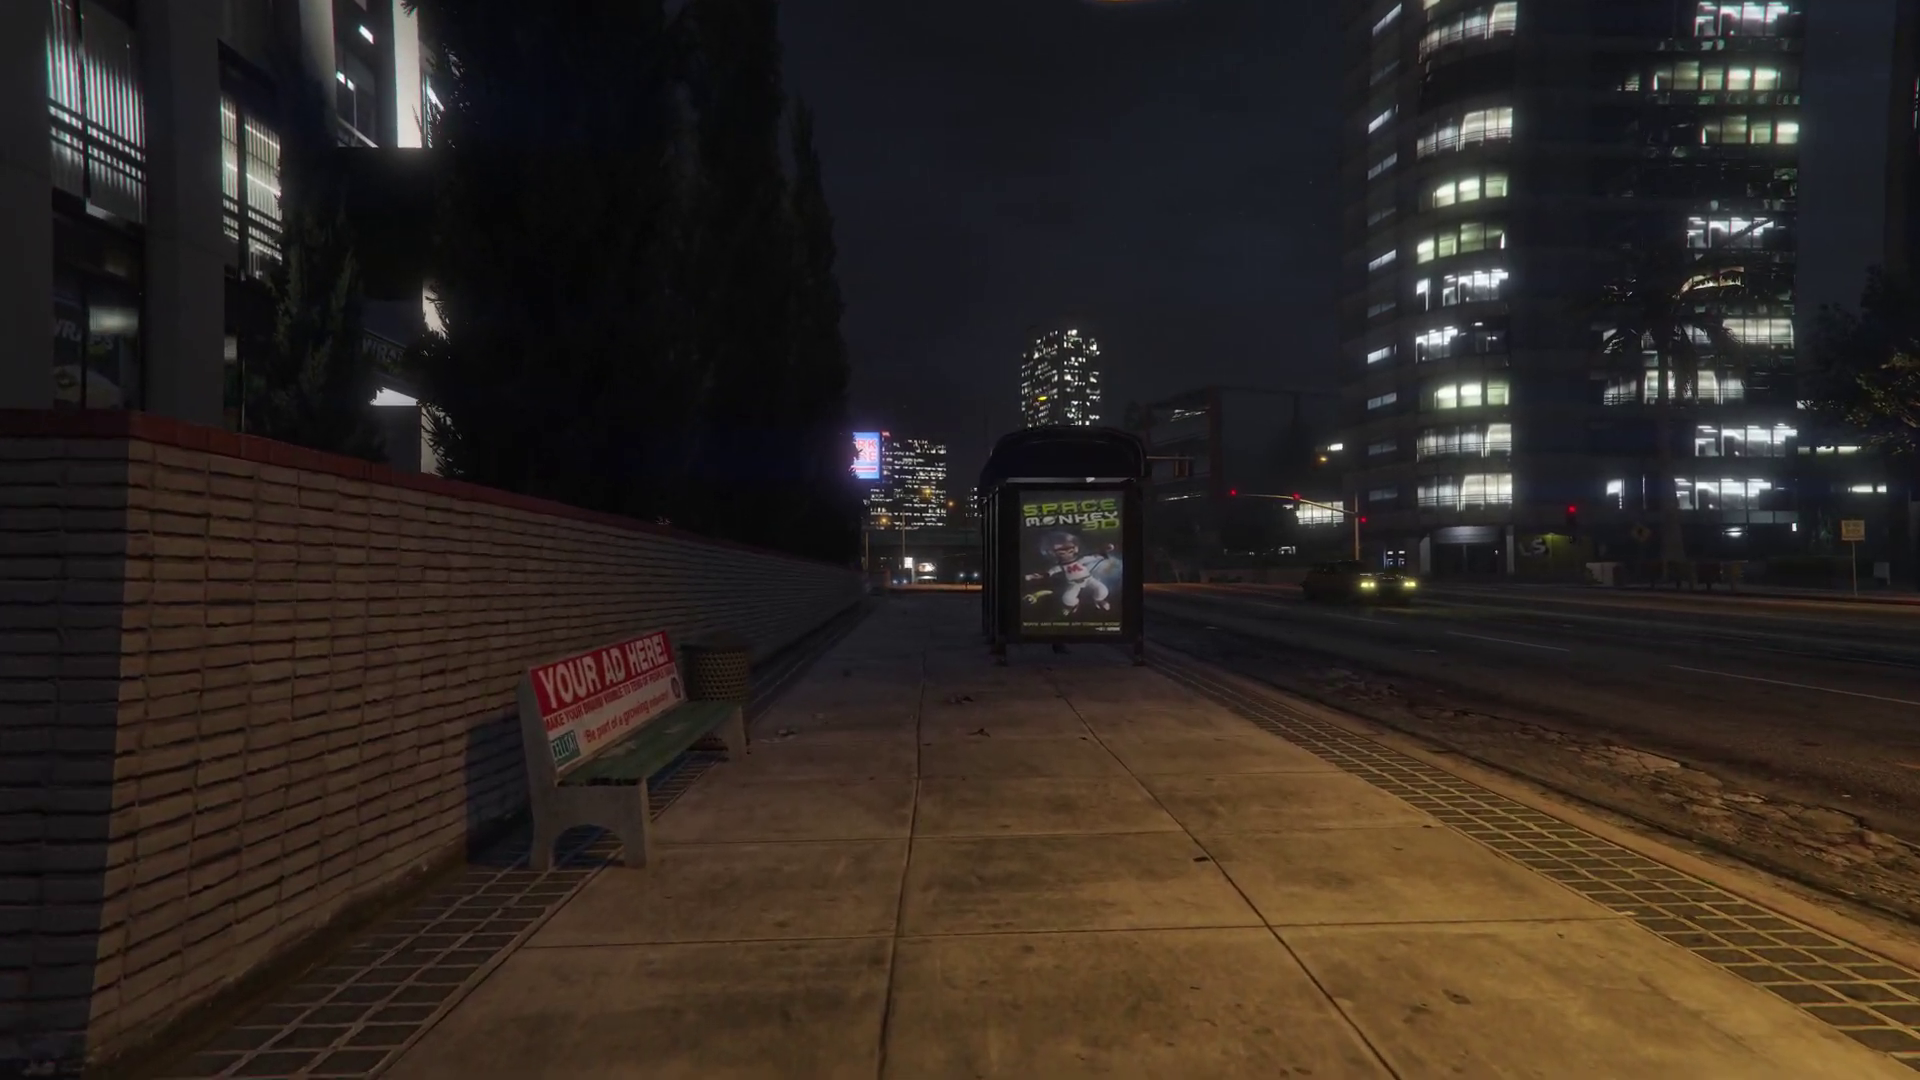car: (1302, 559, 1419, 609)
